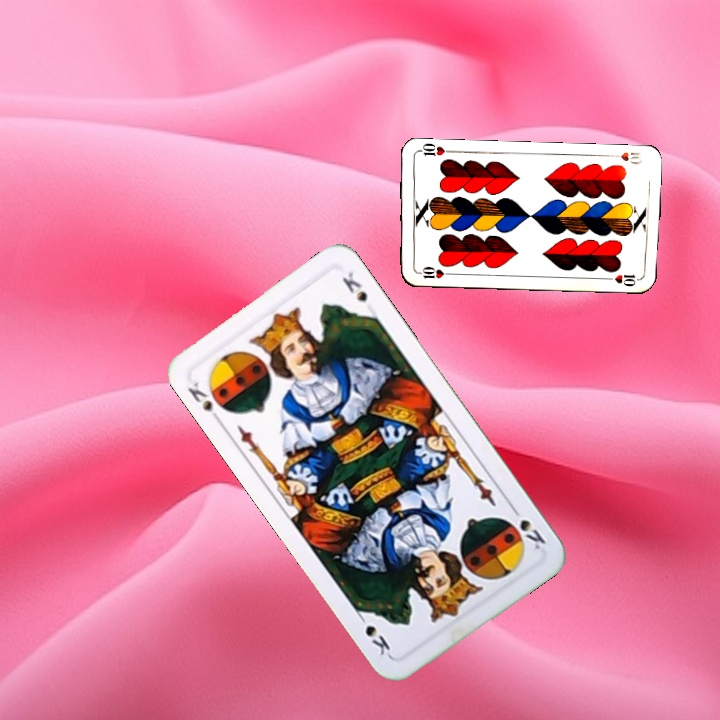H10: (413, 262, 453, 281), (605, 148, 645, 167)
SK: (506, 501, 549, 553), (183, 377, 225, 426)
